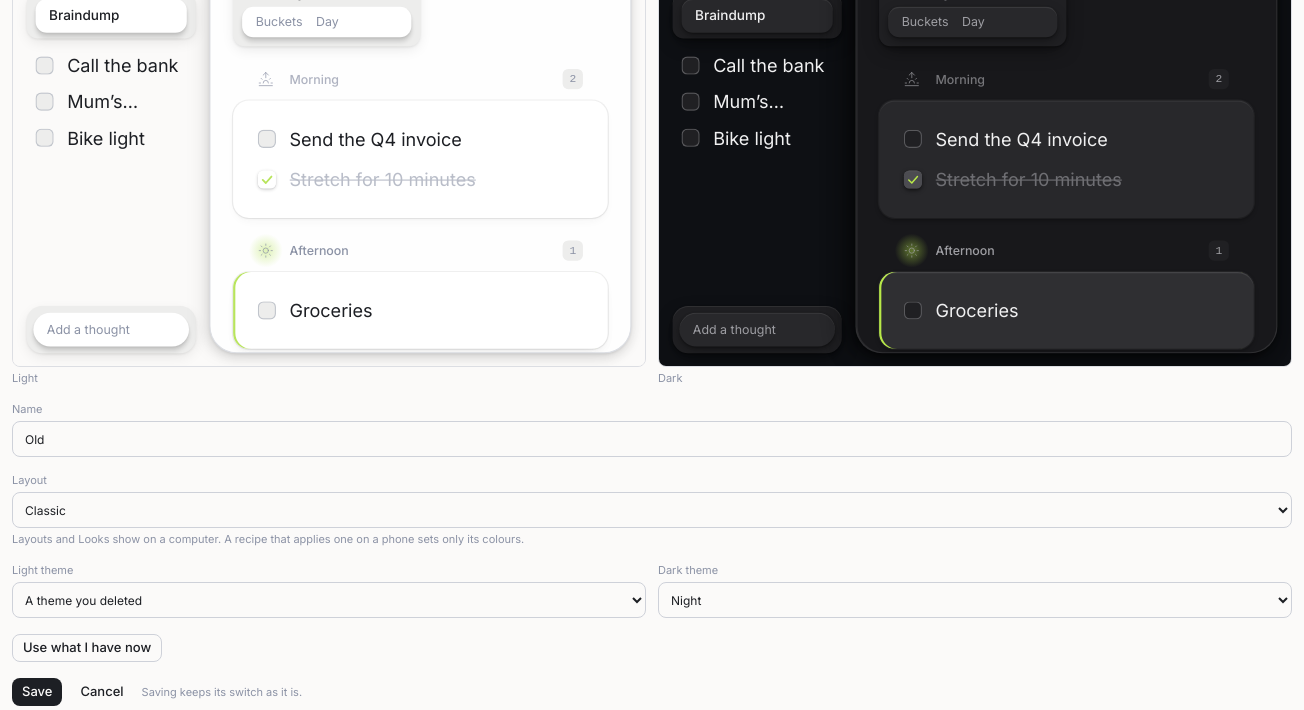
Test case: LookBuilder › refuses a theme of yours that has gone
The image size is (1304, 710).
(page scrolled)
Expected: the dropdown with test id "look-light" shows "A theme you deleted", [12, 582, 646, 618]
Click the button with test id "look-save".
click(37, 692)  # box [12, 678, 62, 706]
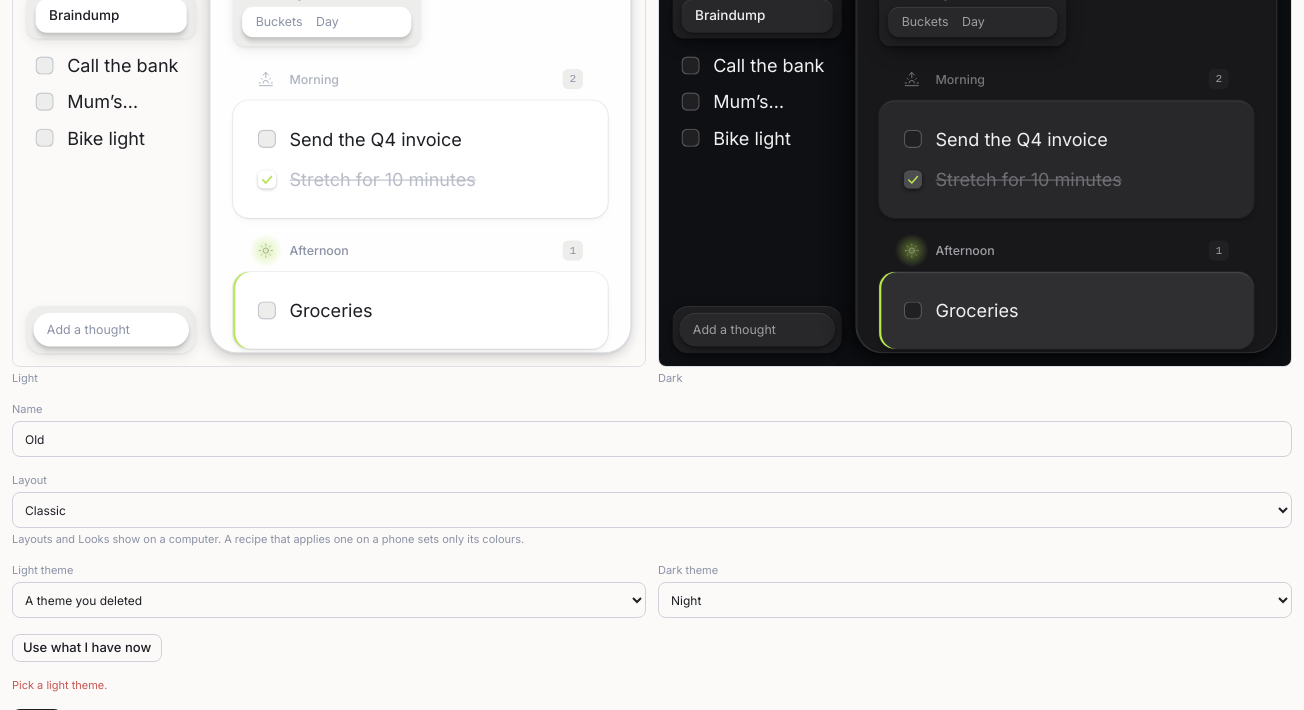
Now the message with test id "look-problems" reads "Pick a light theme.", box [12, 678, 107, 692]
